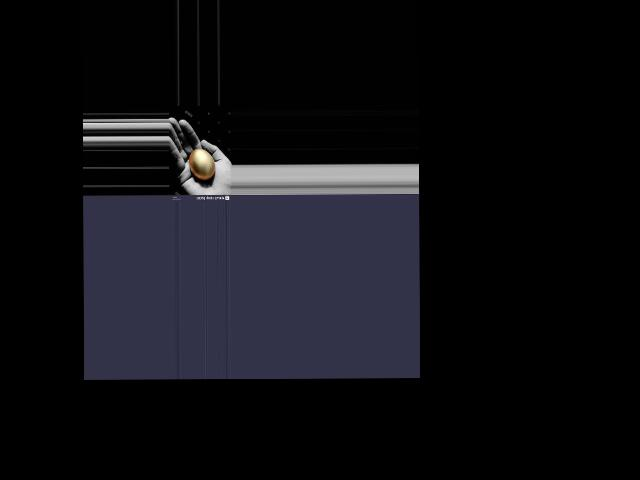egg: (188, 148, 214, 179)
